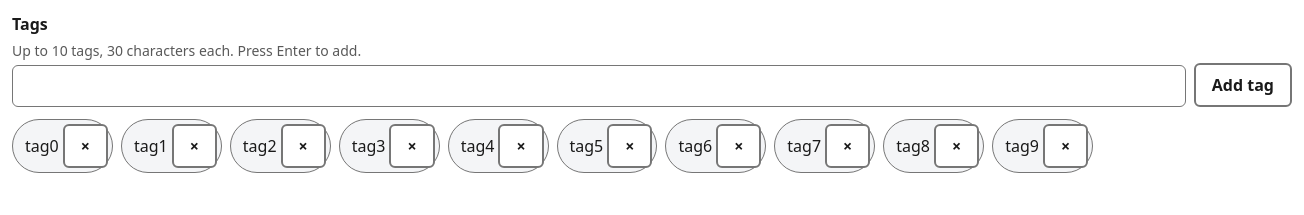
Test case: rejected tags › rejects an eleventh tag
The image size is (1304, 215).
Type "extra" into the field labelled "Tags" at [599, 86], box top-left (12, 65), bottom-right (1186, 107)
Then press Enter
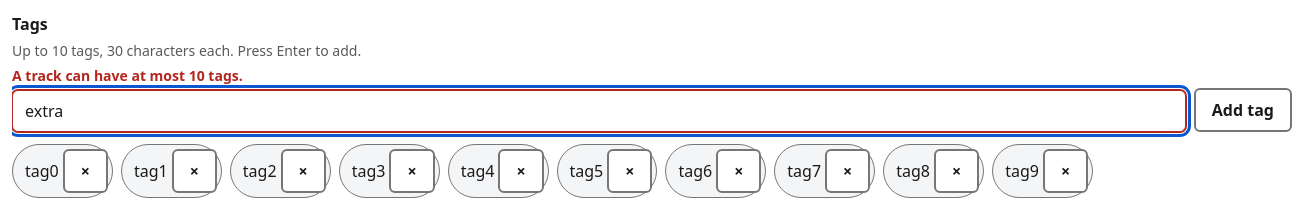
Now the text "A track can have at most 10 tags." is shown, box top-left (11, 65), bottom-right (243, 85)
